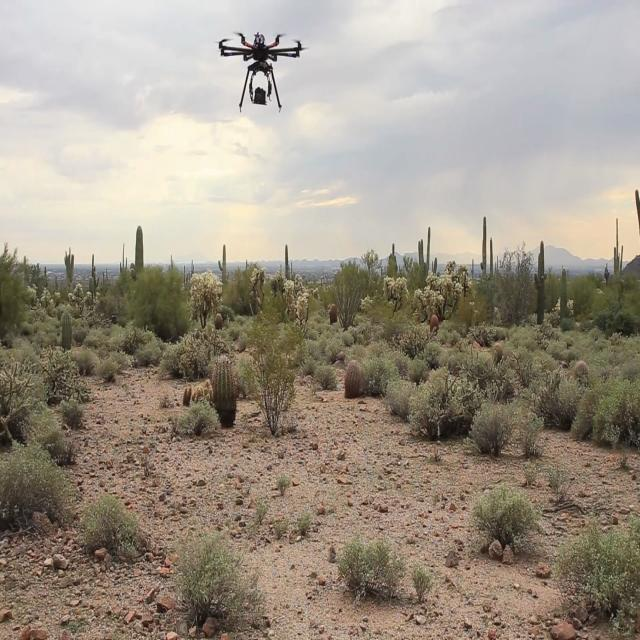drone: (221, 15, 313, 140)
